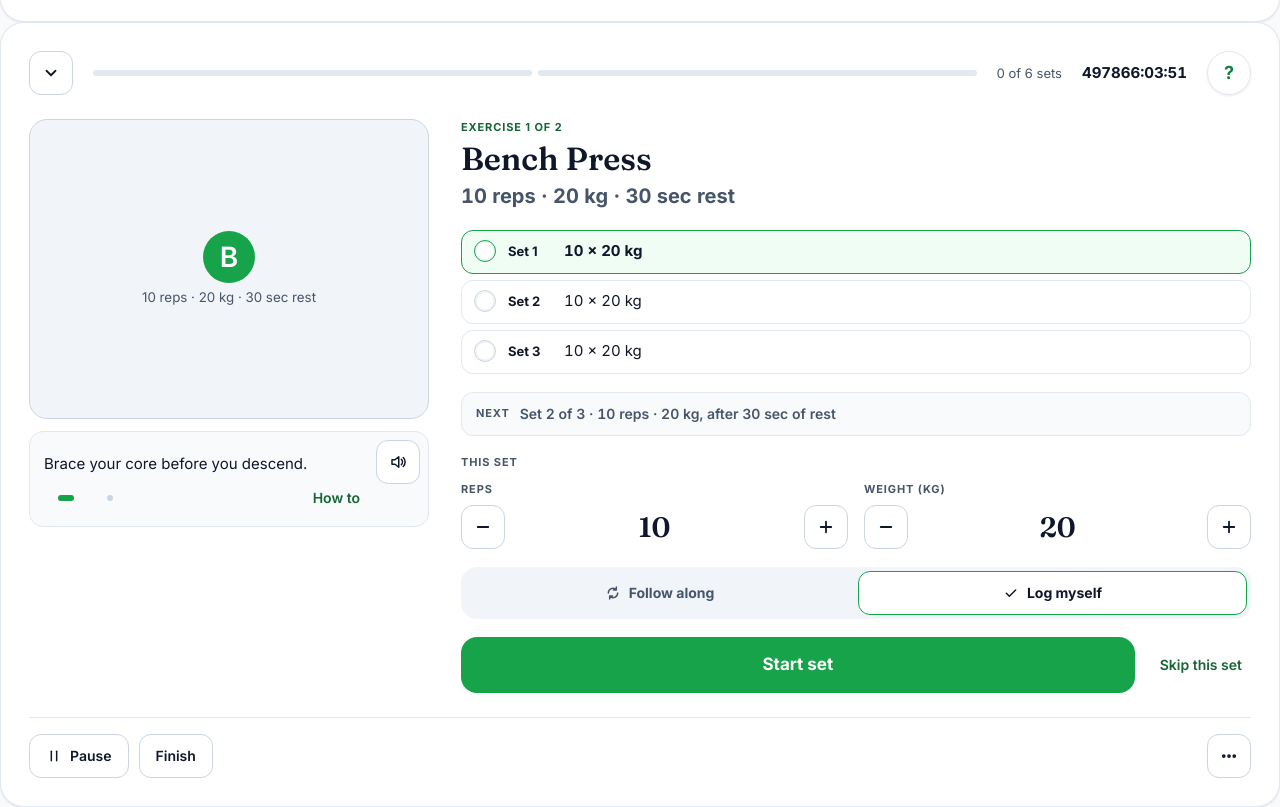
Test: ExercisePlayerComponent › a session started from a weekly plan › working through the sets › takes the pace of the ring from the type of the exercise
(page scrolled)
What coordinates should you click on to do the following:
click the button with class "start-set" below "Set 3"
I would click on:
 (798, 665)
Its box is [461,637,1135,693].
(page scrolled)
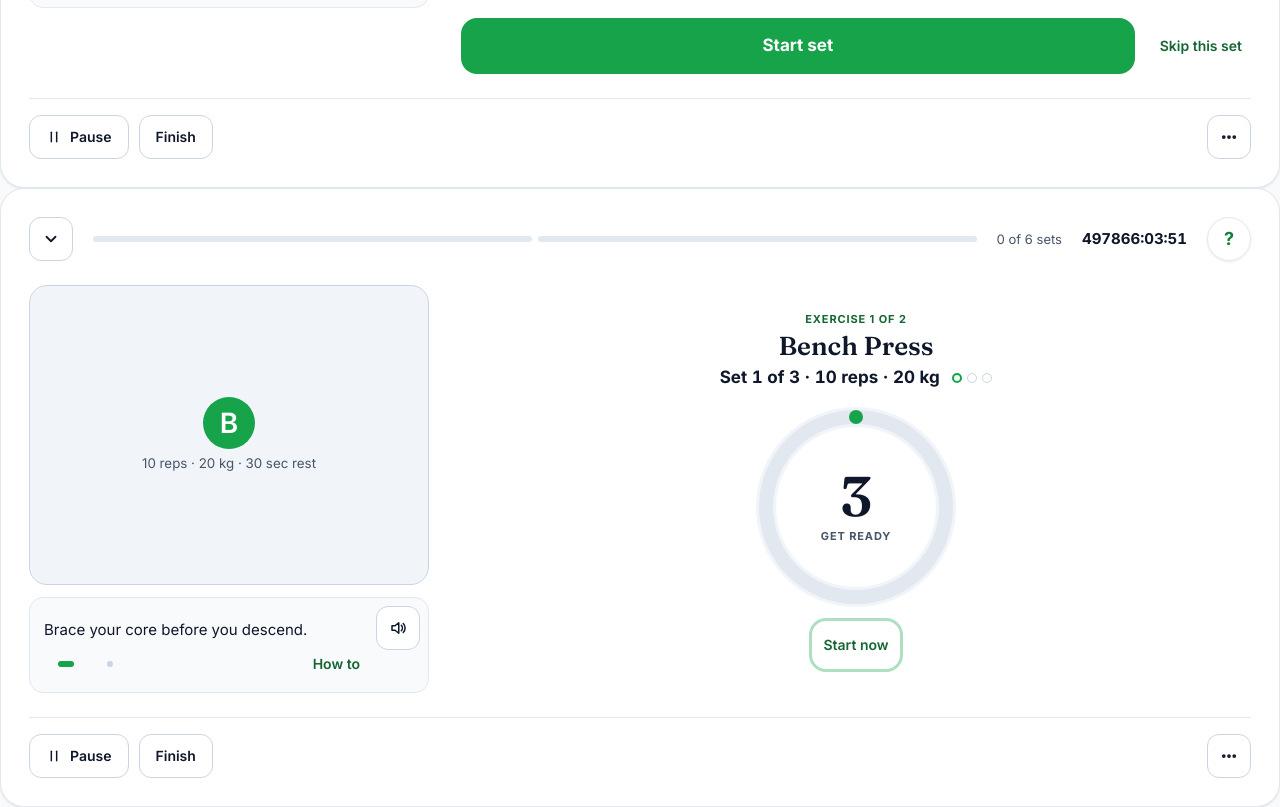
What coordinates should you click on to do the following:
click the button "Start now"
I would click on:
 (856, 645)
Its box is [814,623,898,667].
Wait 8000 ms
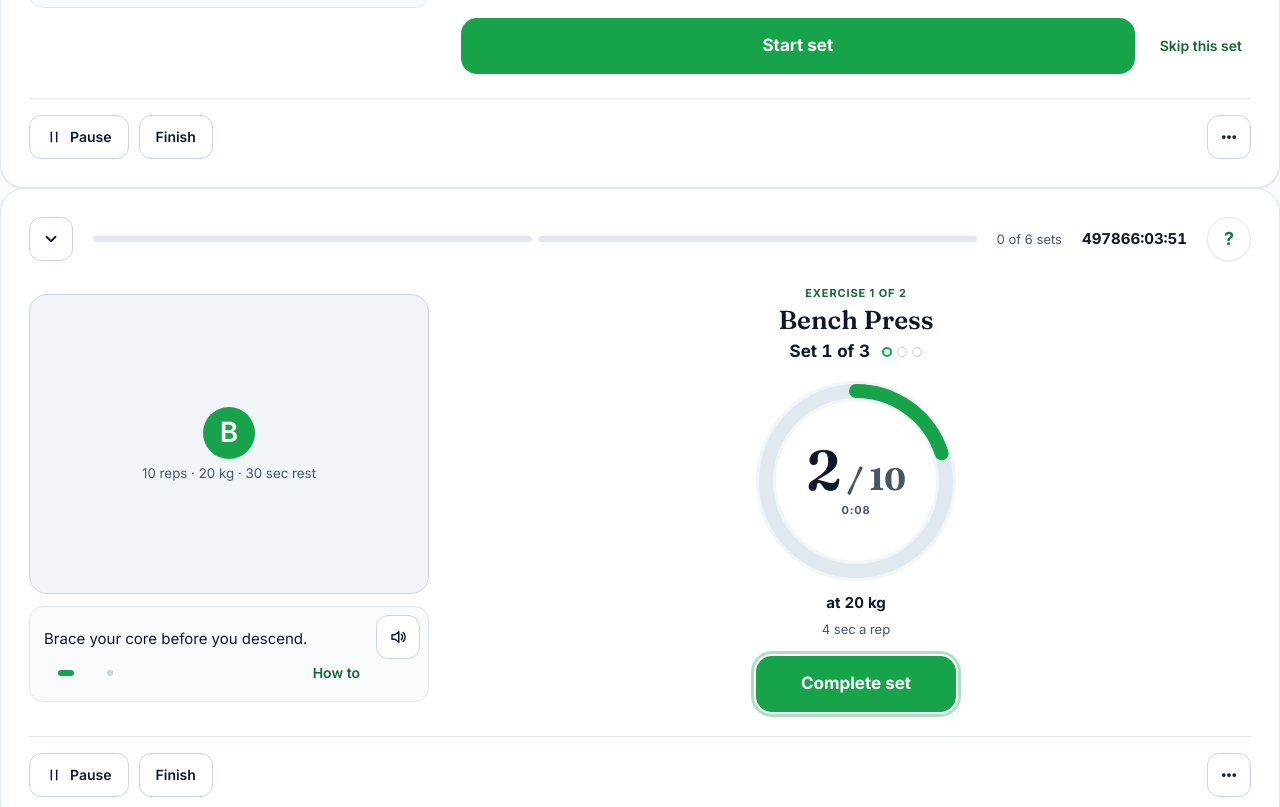
Expected: the text "4 sec a rep" is shown, [822,619,890,640]
